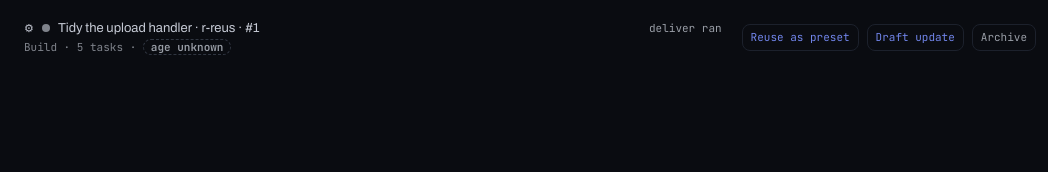
idea 11 — a finished run carries its next use › "Reuse as preset" shows the consequence first, then PUTs the preset
Click the button with test id "run-reuse-preset" at (800, 38), box [742, 24, 859, 51]
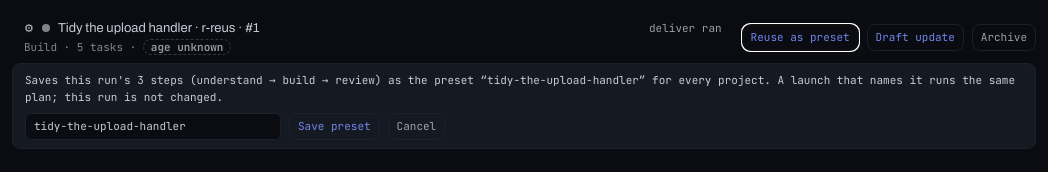
Result: the text with test id "run-reuse-consequence" shows "Saves this run's 3 steps (understand → build → review) as the preset “tidy-the-upload-handler”" at [25, 73, 1015, 104]
Clear the field with test id "run-reuse-name" at (153, 126), box [25, 113, 281, 140]
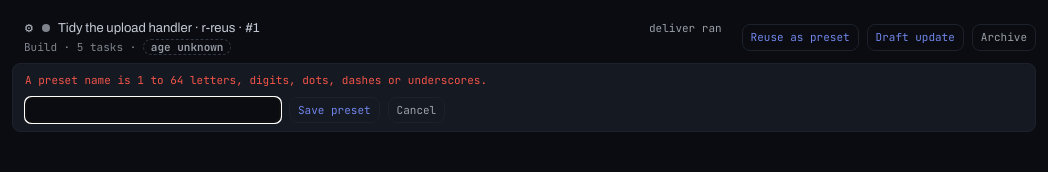
Type "tidy-upload" into the field with test id "run-reuse-name" at (153, 110), box [25, 96, 281, 123]
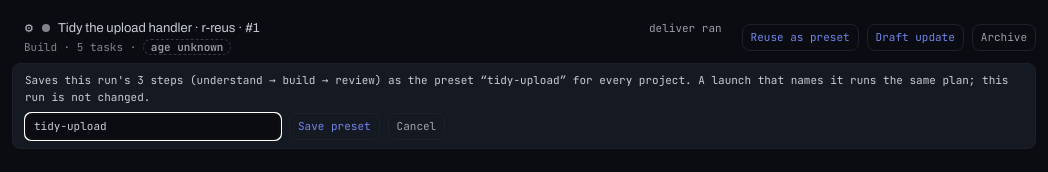
Click the button with test id "run-reuse-save" at (334, 126), box [289, 113, 380, 140]
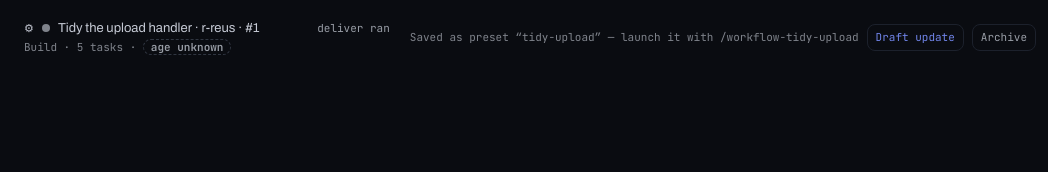
Result: the text with test id "run-reuse-saved" shows "Saved as preset “tidy-upload”" at [410, 30, 859, 44]
Result: the button with test id "run-reuse-preset" is gone
